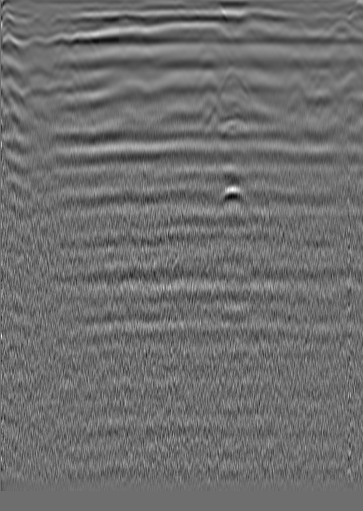가스: (218, 181, 248, 210)
상수: (289, 17, 309, 37)
오수: (28, 12, 48, 32)
우수: (150, 24, 170, 44)
